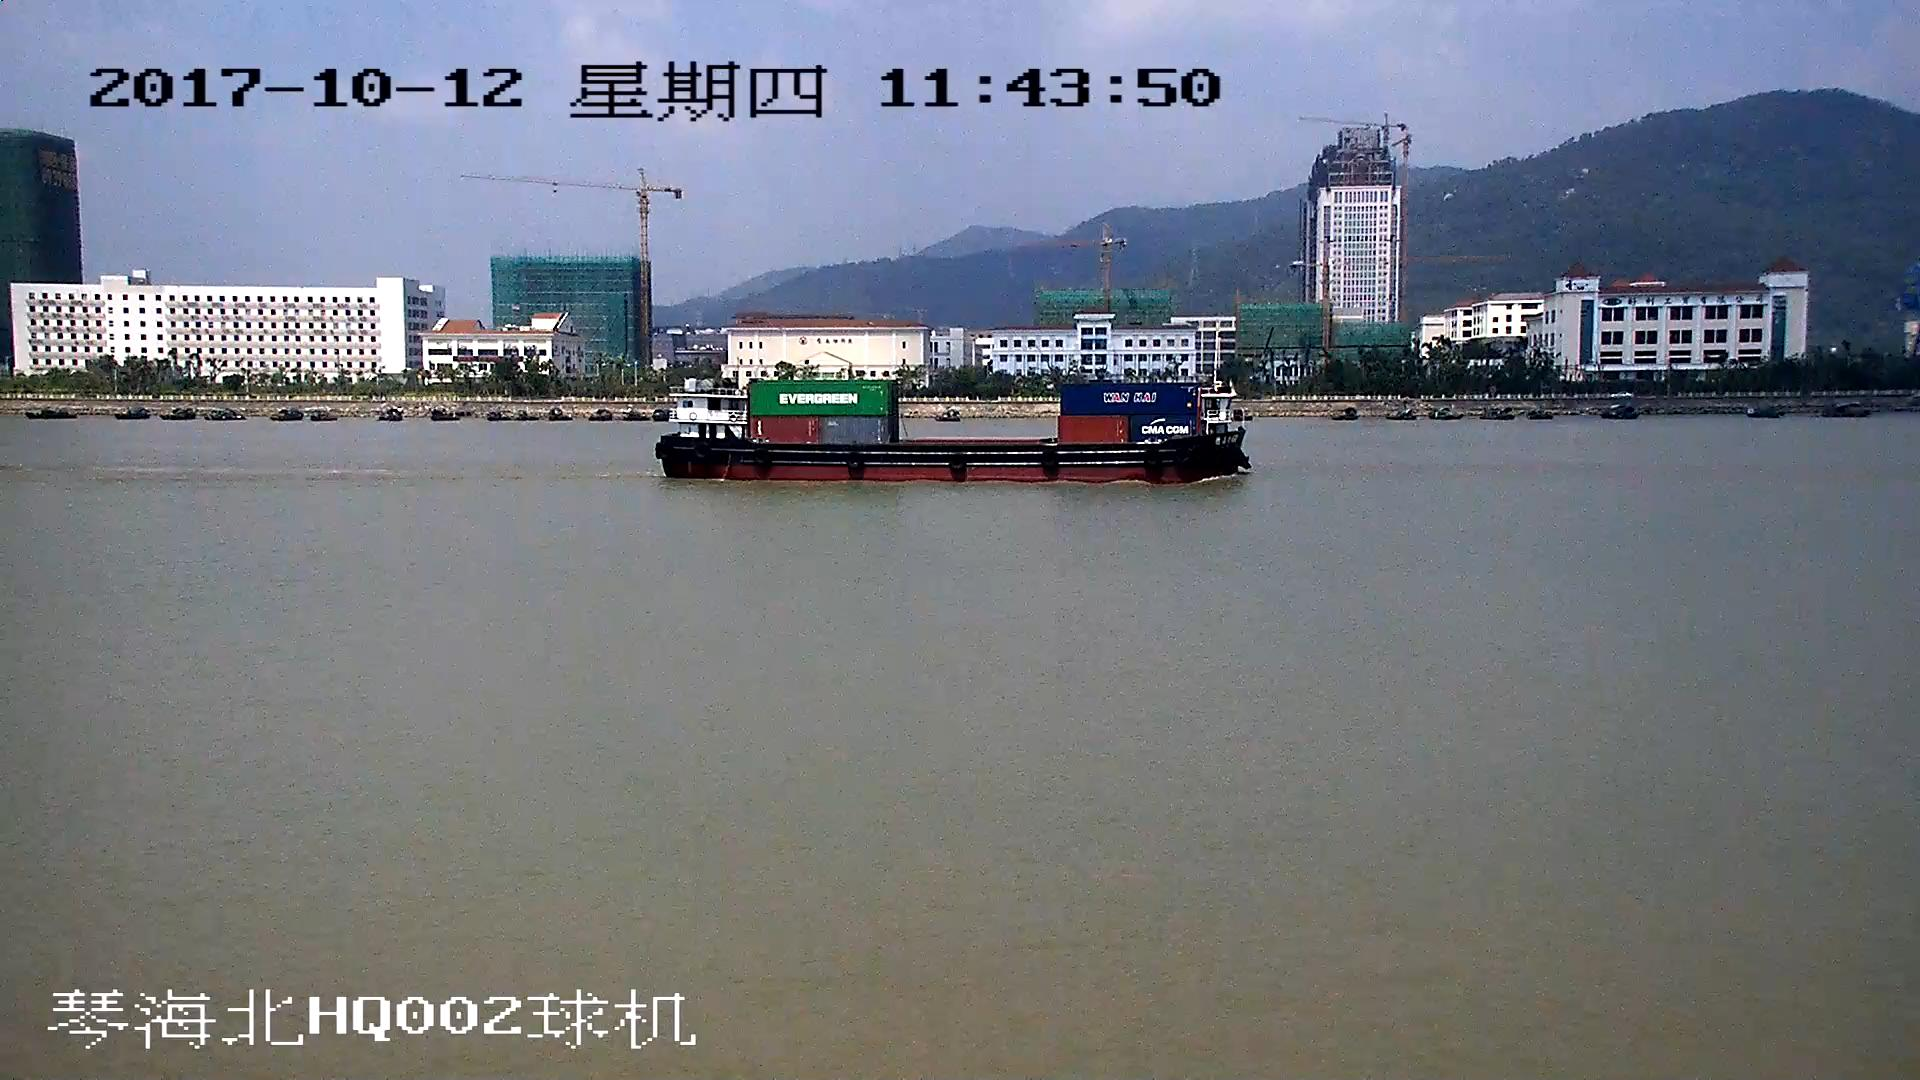container ship: (660, 375, 1249, 480)
